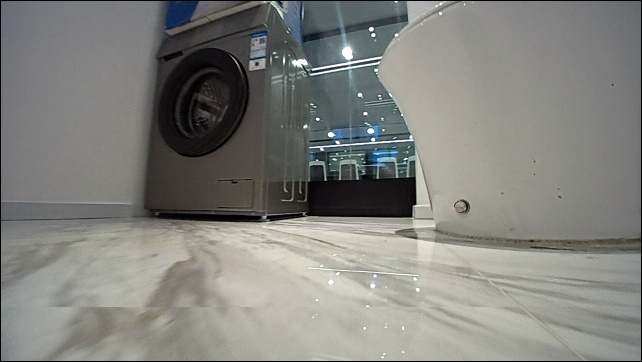toilet: (375, 2, 640, 245)
washing_machine: (139, 3, 313, 223)
